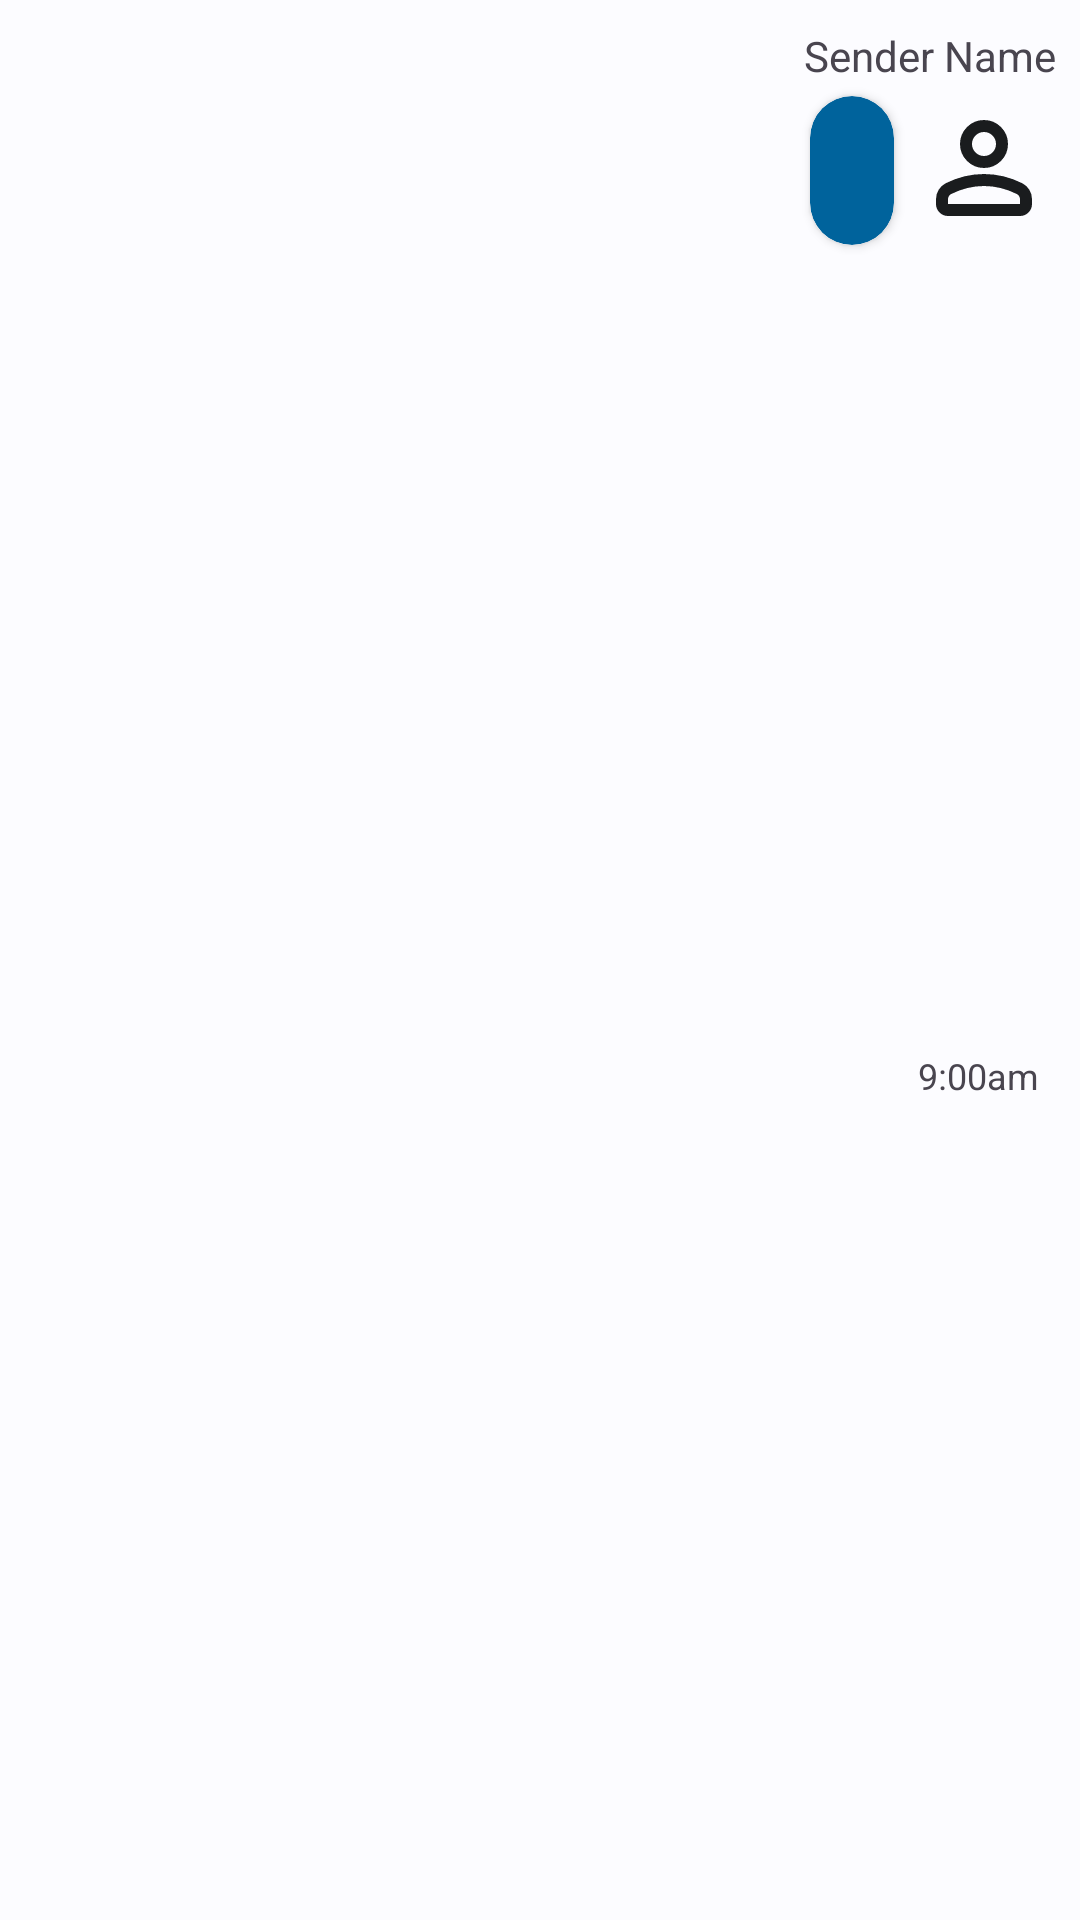

Screen size 1080 × 1920. Icon name, then its box in pixels as (x1, y1, x2, y2):
image of user: (936, 120, 1032, 216)
